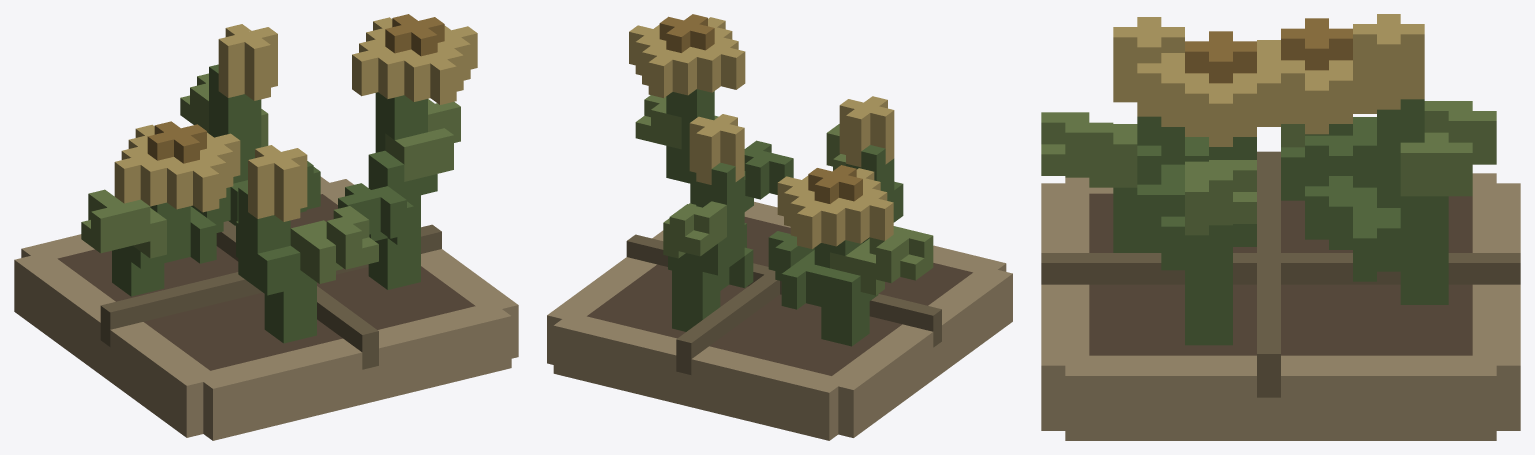
File: flowers_3_packed_spring.glb
3 renders of one model, left to right at view 1: azimuth 30°, elevation 25°; view 2: azimuth 150°, elevation 25°; view 3: azimuth 270°, elevation 25°, orthographic. The views are drawn at different scales.
Visible parts, largest first — view 1: VoxelVisual; view 2: VoxelVisual; view 3: VoxelVisual.
Part boxes in pixels (x1,y1,x2,y2): VoxelVisual: [14, 14, 518, 440]; VoxelVisual: [547, 14, 1012, 440]; VoxelVisual: [1041, 14, 1520, 440].
Size of what is drawn, in the model's own units: 1.31 by 1.06 by 1.25.
